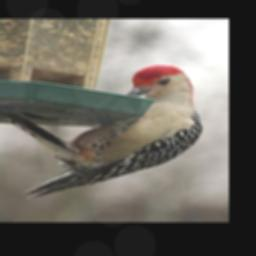Woodpecker: (18, 64, 201, 203)
